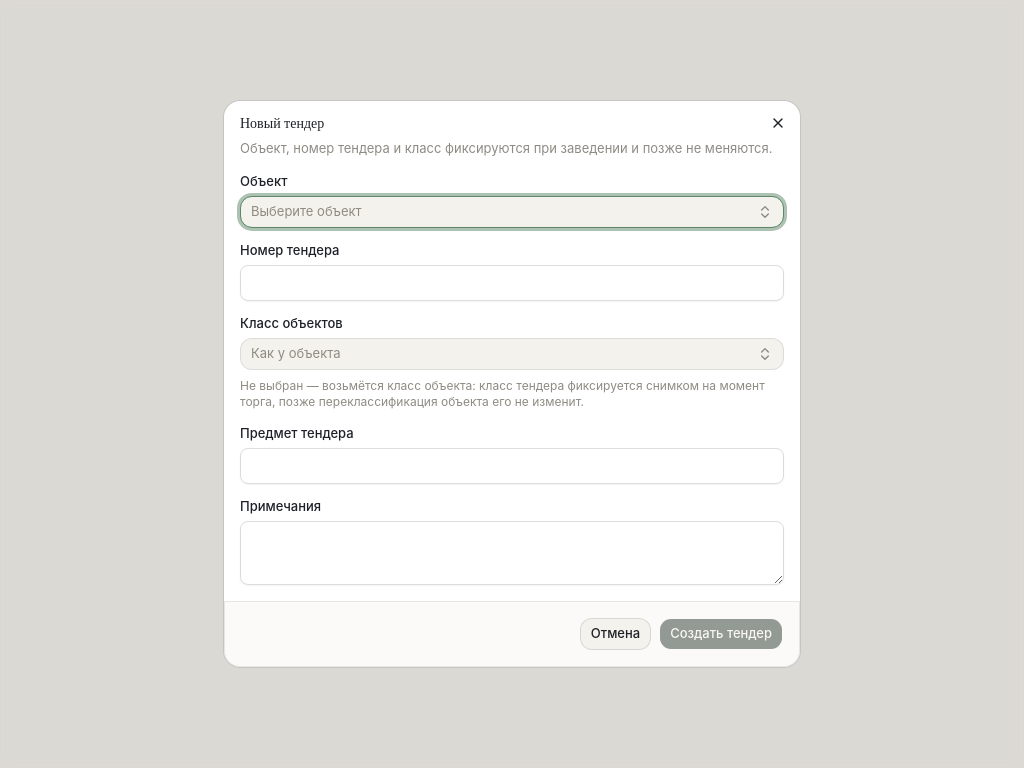
Test: Форма тендера: создание › создать тендер нельзя без объекта и предмета
The image size is (1024, 768).
Expected: the button "Создать тендер" is disabled, x1=659 y1=618 x2=783 y2=650
Click the dropdown labelled "Выберите объект": coordinates (306, 211) x1=240 y1=196 x2=784 y2=228
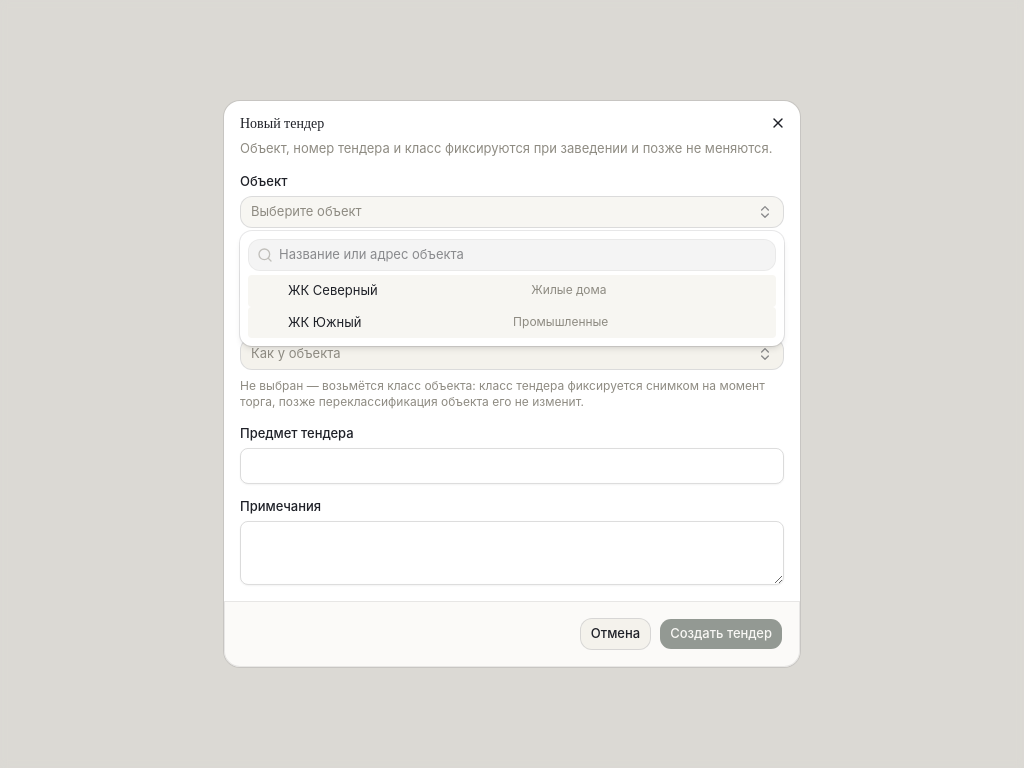
Click the text "ЖК Северный": coordinates (333, 291) x1=288 y1=281 x2=378 y2=300
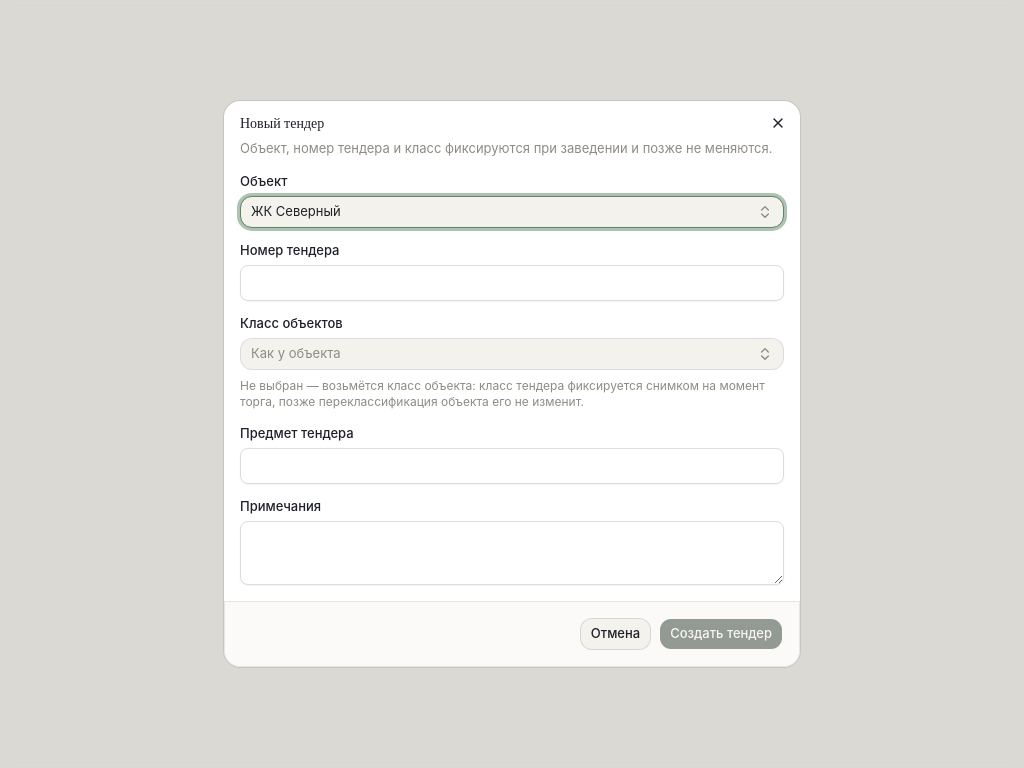
Expected: the button "Создать тендер" is disabled, x1=659 y1=618 x2=783 y2=650
In the field labelled "Номер тендера": coordinates (512, 282) x1=240 y1=264 x2=784 y2=300, type "Т-2026-777"
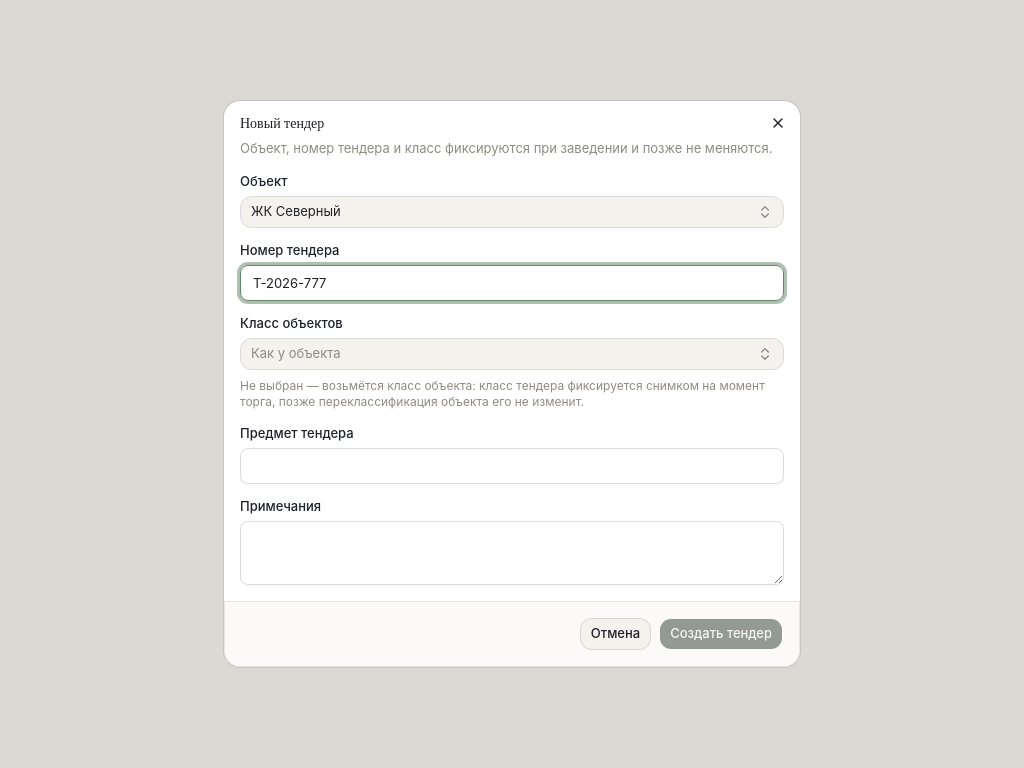
Expected: the button "Создать тендер" is disabled, x1=659 y1=618 x2=783 y2=650
In the field labelled "Предмет тендера": coordinates (512, 466) x1=240 y1=448 x2=784 y2=484, type "Генподряд"
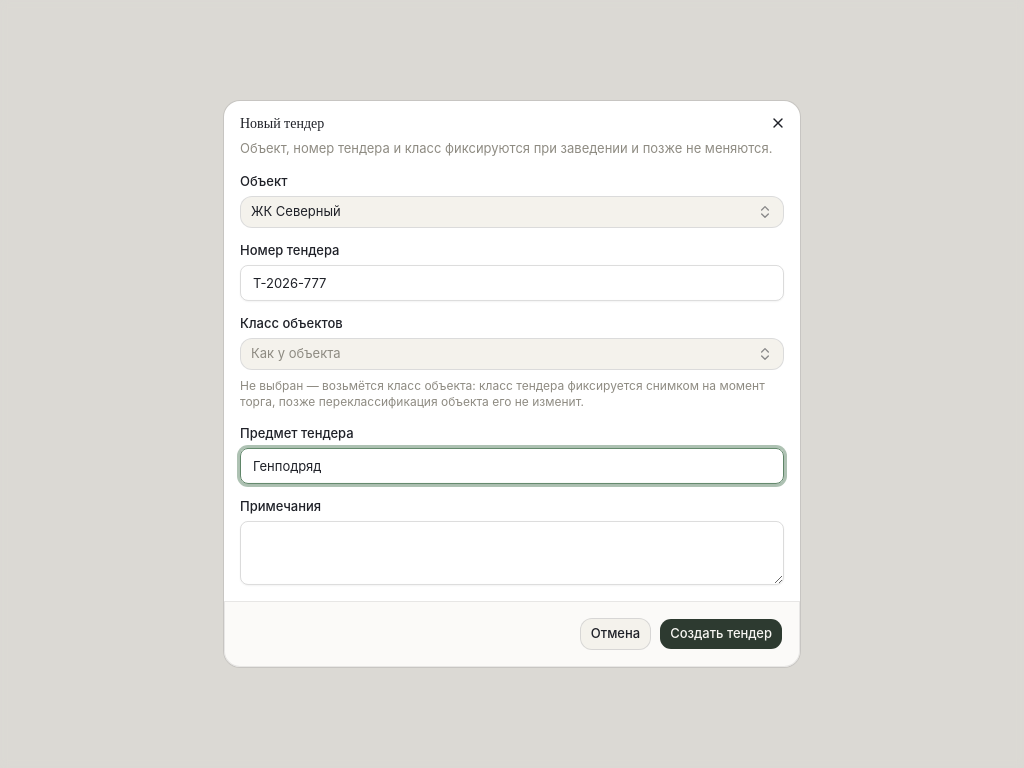
Result: the button "Создать тендер" is enabled at x1=659 y1=618 x2=783 y2=650
